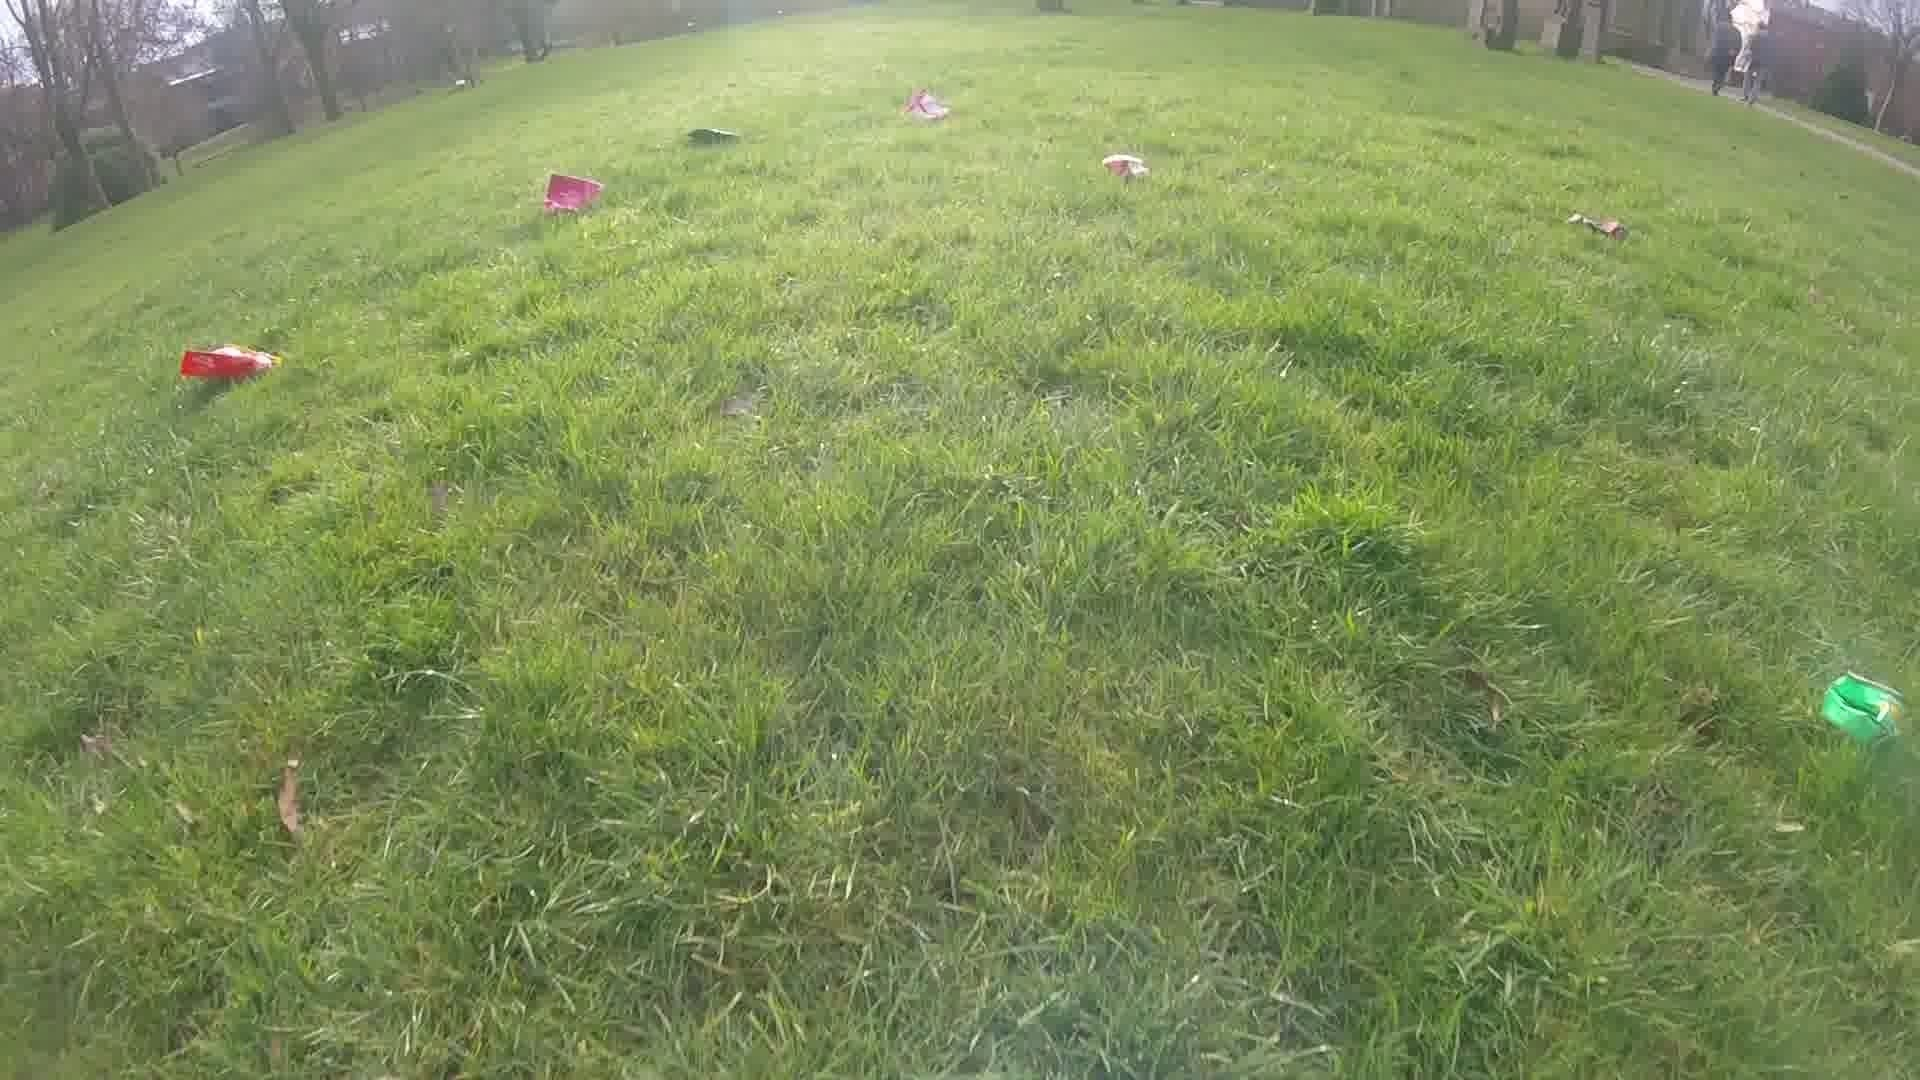litter: (1826, 674, 1904, 756), (177, 345, 285, 373), (541, 179, 605, 214), (1575, 211, 1630, 243), (902, 91, 949, 123), (1101, 153, 1146, 182), (683, 125, 745, 142)
